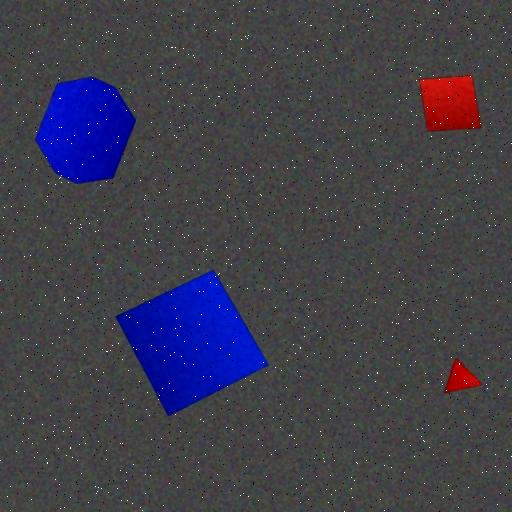BLUE_SQUARE: (114, 270, 270, 416)
RED_SQUARE: (418, 75, 482, 133)
